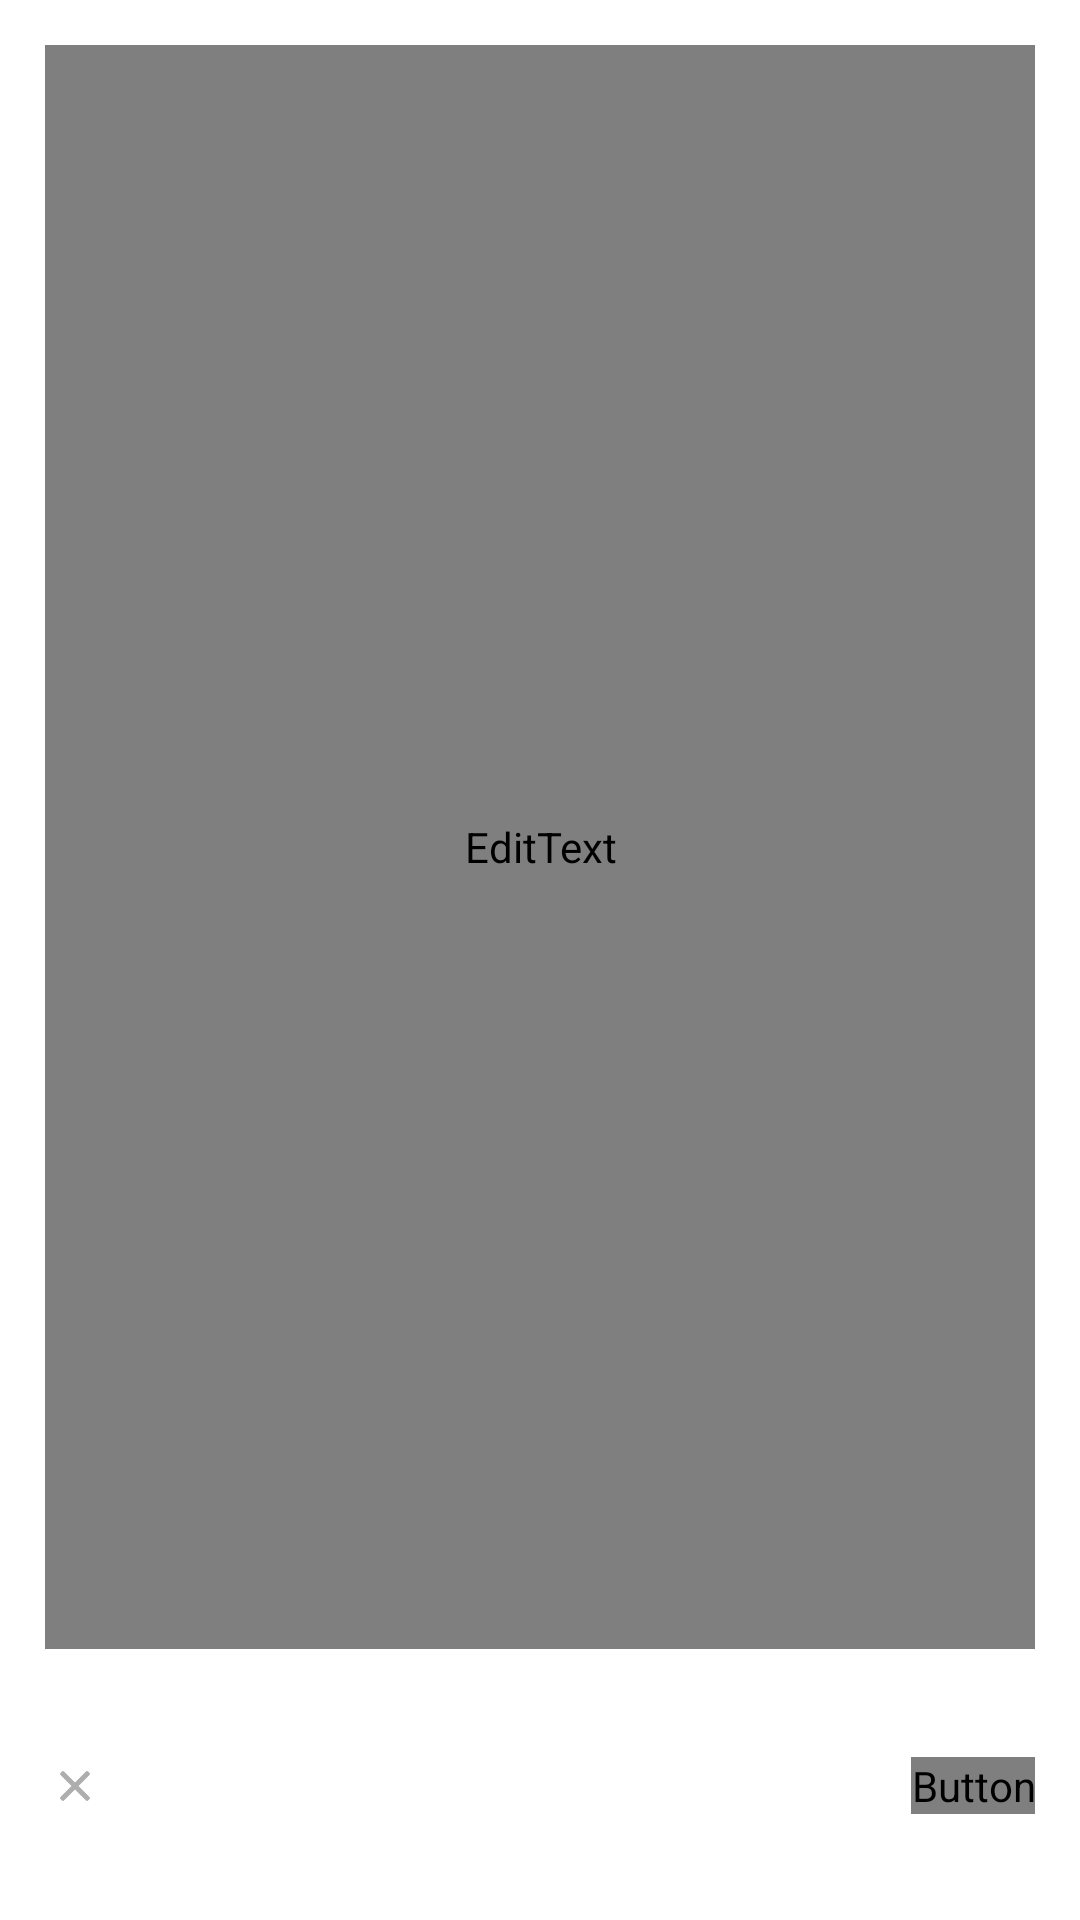

Screen size 1080 × 1920. Icon name, then its box in pixels as {"x1": x1, "y1": y1, "x2": x2, "y2": y2}:
clear: {"x1": 60, "y1": 1771, "x2": 90, "y2": 1801}
